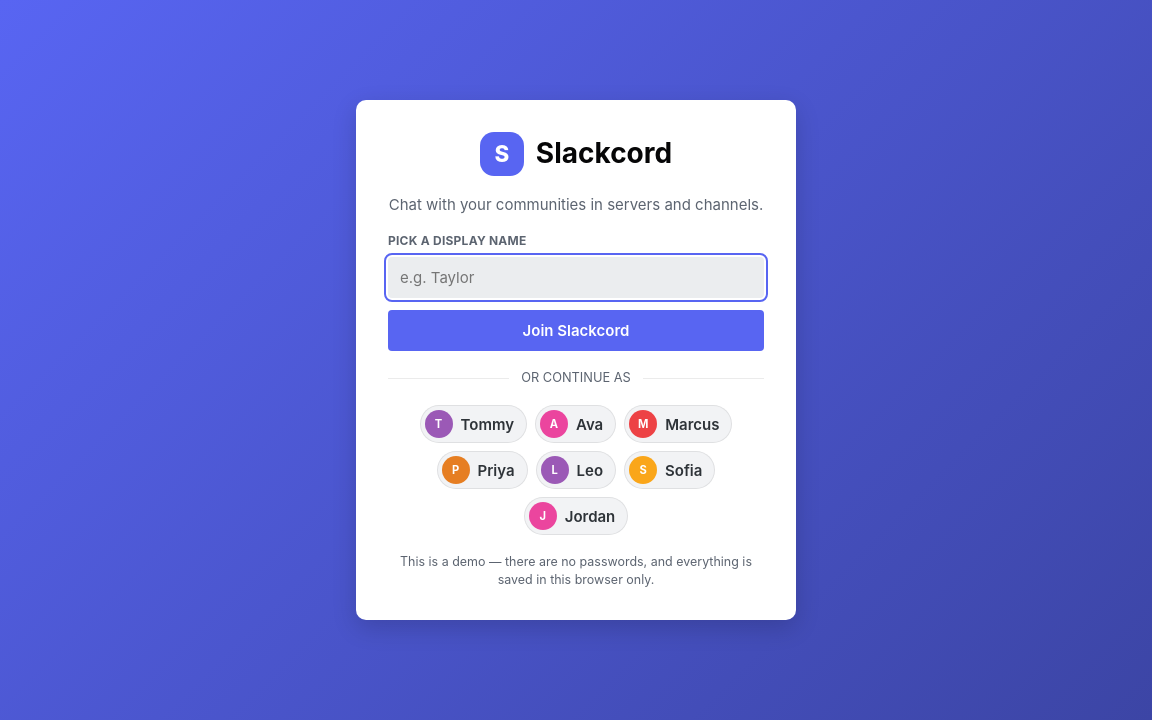
Test: search filters messages in the channel
Type "Taylor" into the field labelled "Pick a display name".
click(576, 278); type("Taylor")  # box [388,258,764,298]
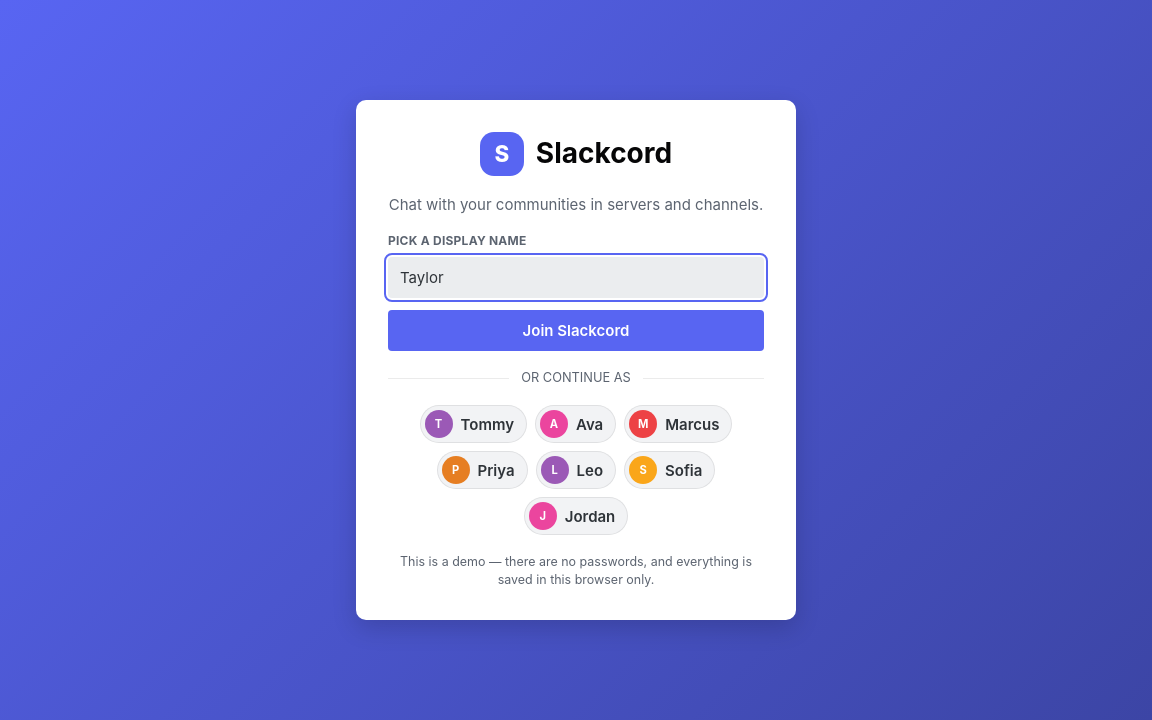
Click the button "Join Slackcord".
click(576, 331)  # box [388,310,764,352]
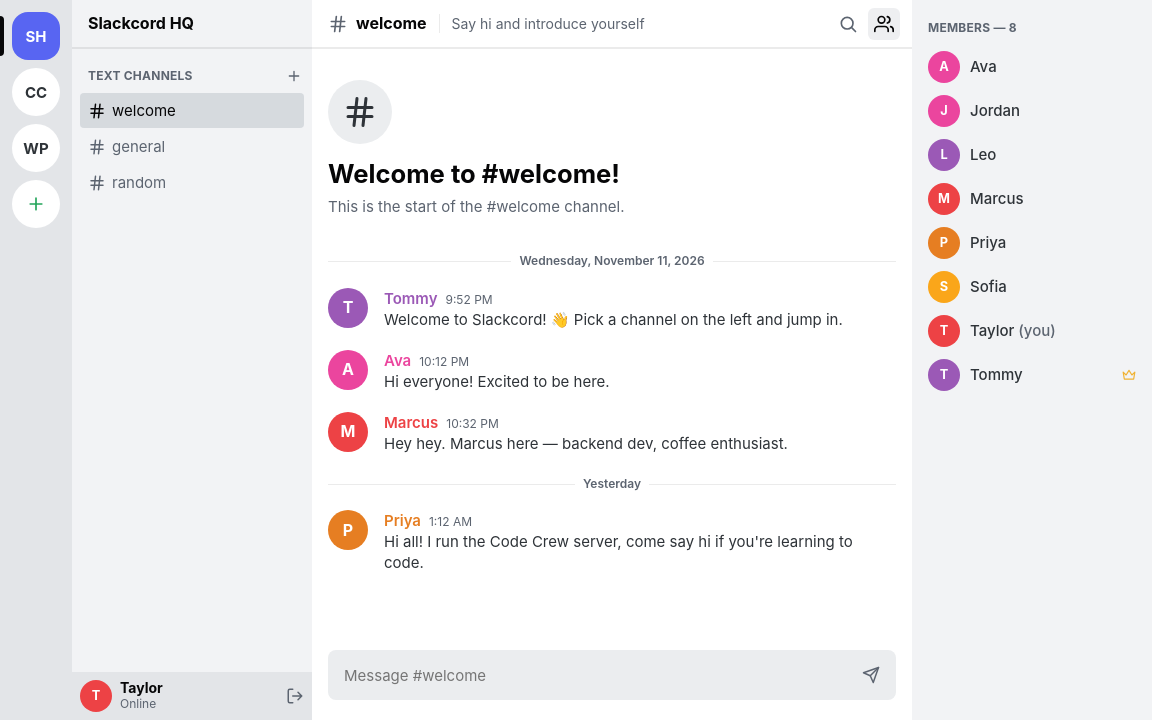
Click the button "general".
click(192, 146)  # box [80,129,304,164]
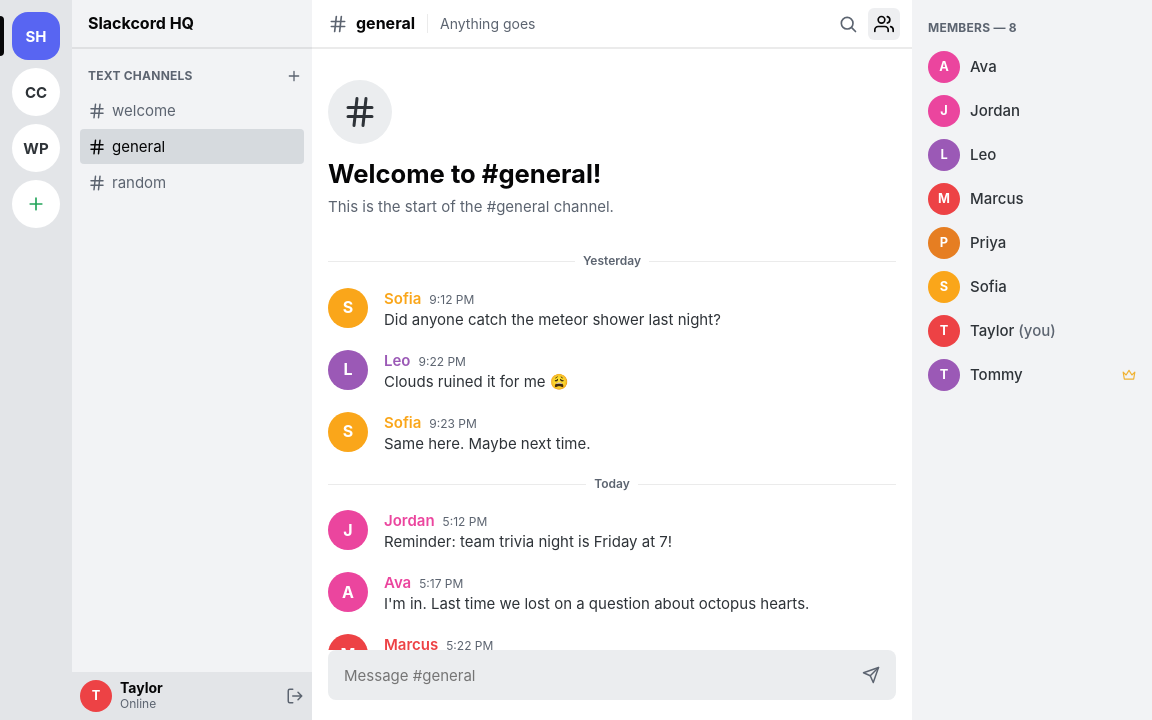
Click the button named "Search messages".
click(848, 24)  # box [832,8,864,40]
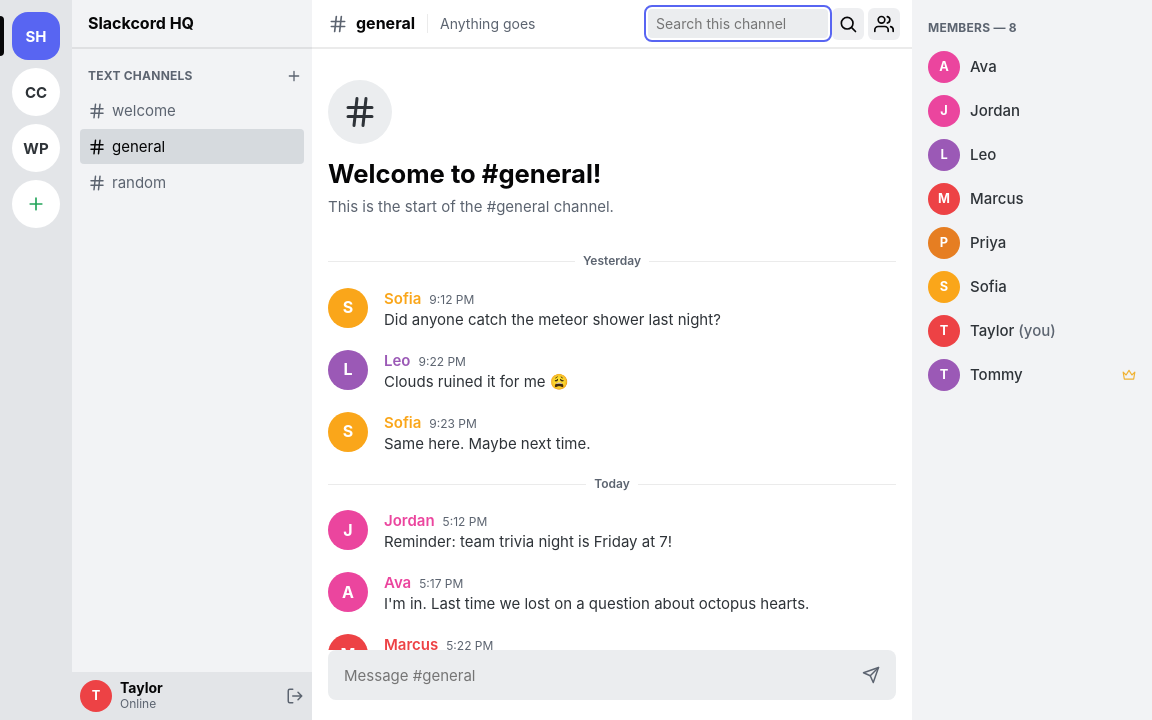
Type "trivia" into the search field named "Search messages".
click(738, 24); type("trivia")  # box [648,9,828,38]
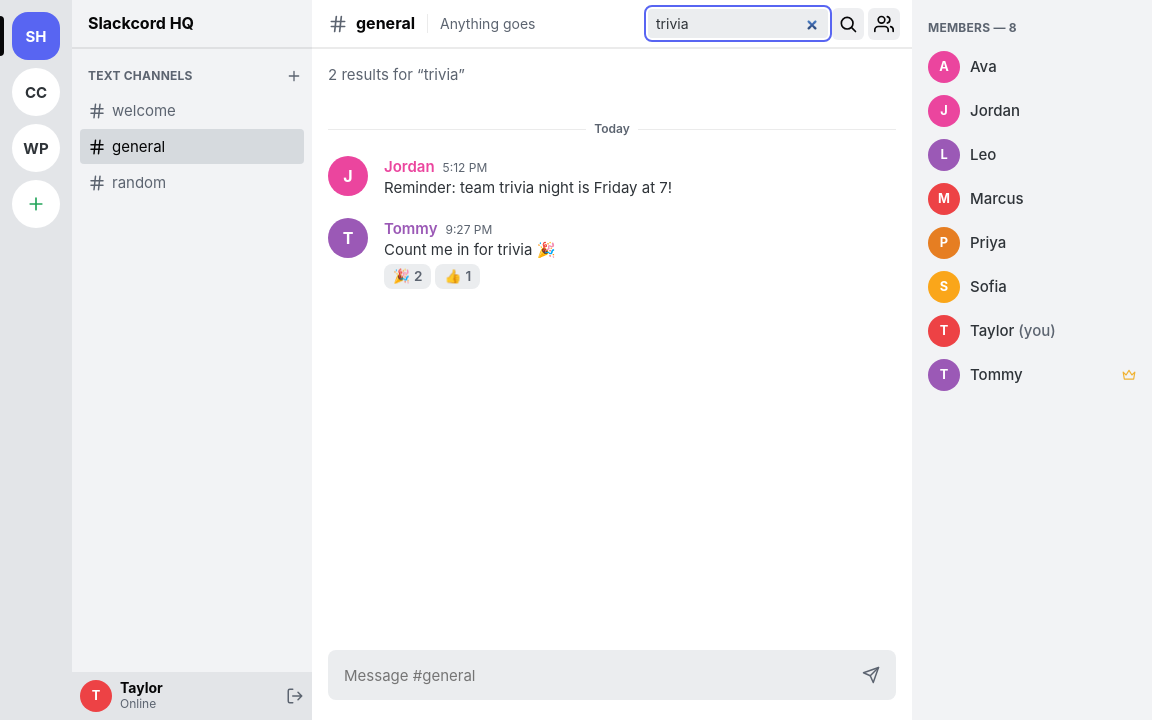
Result: the text "2 results for “trivia”" is shown at [328,65,465,84]
Result: the text "meteor shower" is gone
